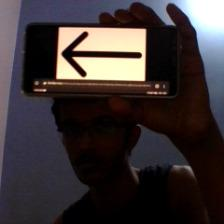left: (60, 30, 143, 77)
